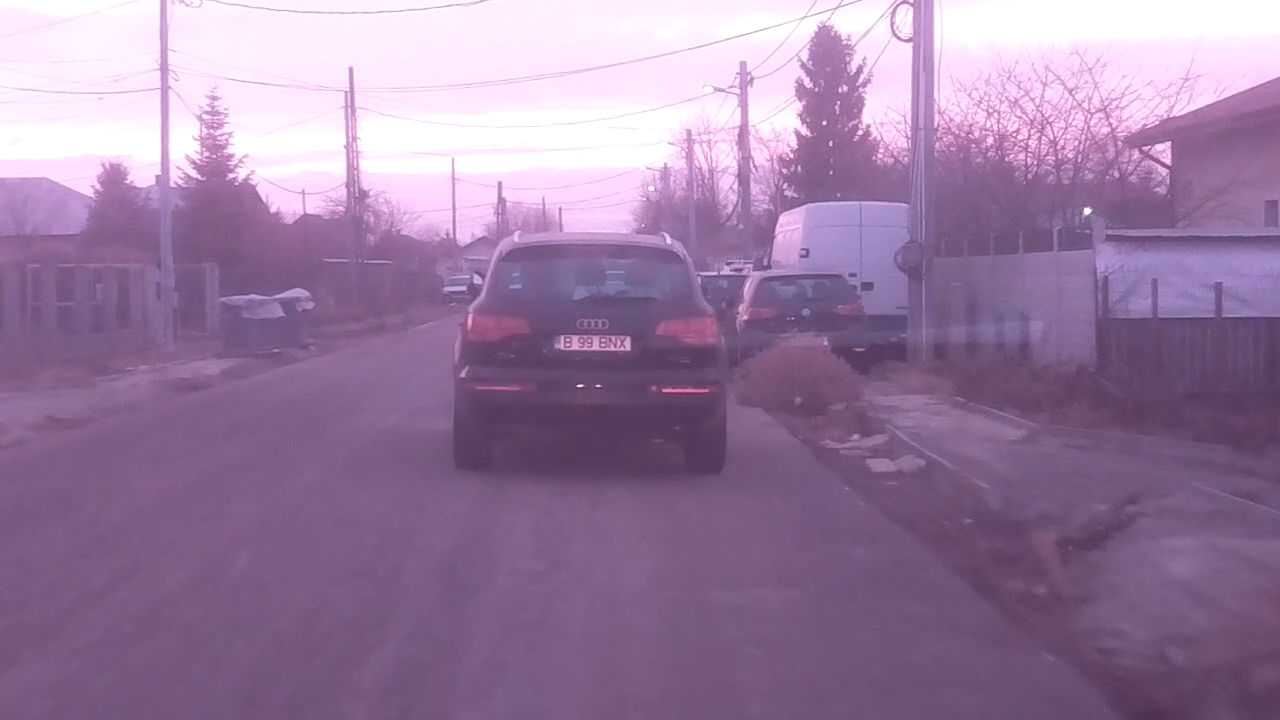license-plate: (549, 333, 635, 355)
